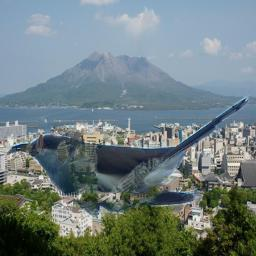Cuckoo: (7, 95, 256, 219)
